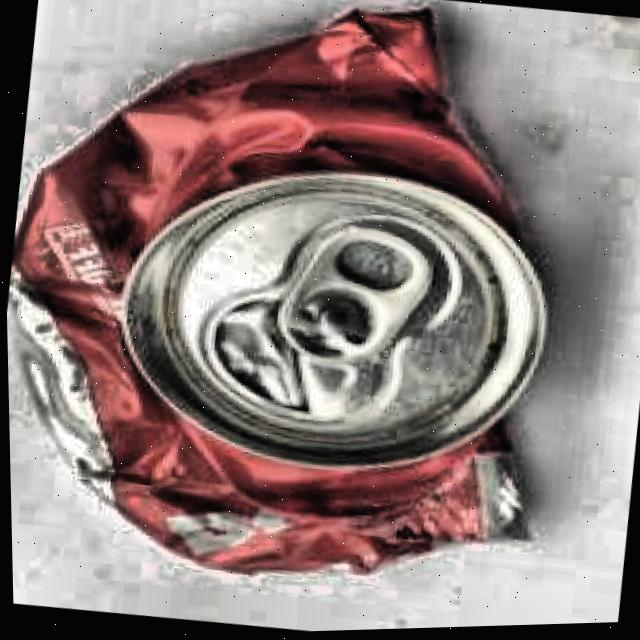metal: (0, 0, 605, 631)
